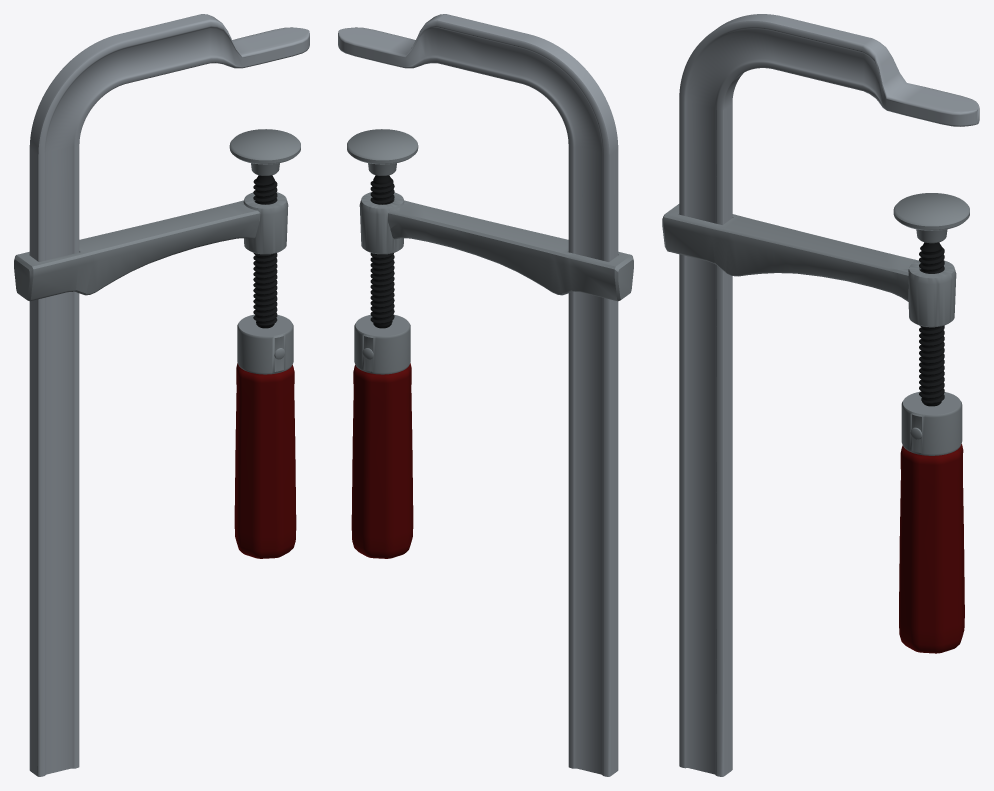
3 renders of one model, left to right at view 1: azimuth 30°, elevation 25°; view 2: azimuth 150°, elevation 25°; view 3: azimuth 330°, elevation 25°, orthographic. The views are drawn at different scales.
Parts seen in each view (by area): view 1: part_005_Frame_rail_and_fixed_jaw, part_003_Sliding_arm, part_000_Wood_grip, part_004_Handle_ferrule, part_001_Threaded_spindle, part_002_Swivel_pressure_pad; view 2: part_005_Frame_rail_and_fixed_jaw, part_003_Sliding_arm, part_000_Wood_grip, part_004_Handle_ferrule, part_001_Threaded_spindle, part_002_Swivel_pressure_pad; view 3: part_005_Frame_rail_and_fixed_jaw, part_003_Sliding_arm, part_000_Wood_grip, part_004_Handle_ferrule, part_002_Swivel_pressure_pad, part_001_Threaded_spindle.
Part boxes in pixels (x1,y1,x2,y2): part_005_Frame_rail_and_fixed_jaw: (29,14,309,776); part_003_Sliding_arm: (14,192,288,301); part_000_Wood_grip: (234,363,296,558); part_004_Handle_ferrule: (237,314,293,374); part_001_Threaded_spindle: (253,175,277,328); part_002_Swivel_pressure_pad: (229,129,300,175); part_005_Frame_rail_and_fixed_jaw: (338,14,618,776); part_003_Sliding_arm: (359,192,633,301); part_000_Wood_grip: (351,363,413,558); part_004_Handle_ferrule: (354,314,410,374); part_001_Threaded_spindle: (370,175,394,328); part_002_Swivel_pressure_pad: (347,129,418,175); part_005_Frame_rail_and_fixed_jaw: (679,14,979,776); part_003_Sliding_arm: (662,204,956,327); part_000_Wood_grip: (899,444,964,653); part_004_Handle_ferrule: (901,391,962,455); part_002_Swivel_pressure_pad: (893,193,969,243); part_001_Threaded_spindle: (919,242,944,406).
Bounding box in the file's own units: 0.0965 × 0.23 × 0.0208.
